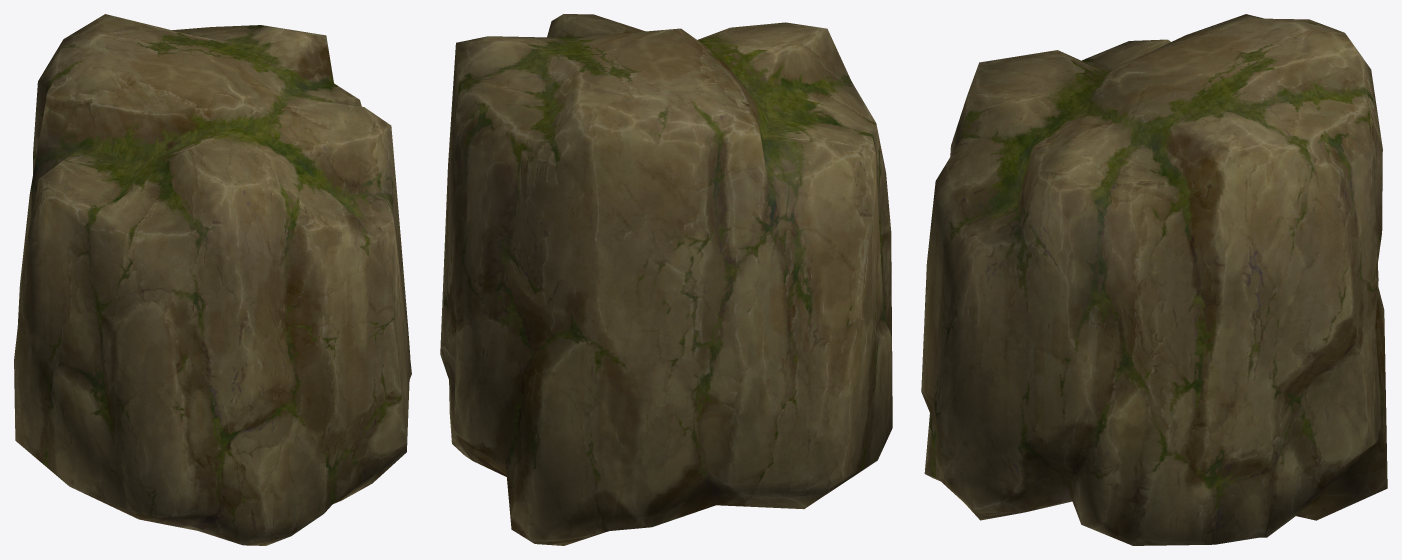
File: Cliff2.fbx
The picture shows the model from 3 angles, left to right: view 1: azimuth 30°, elevation 25°; view 2: azimuth 150°, elevation 25°; view 3: azimuth 270°, elevation 25°; orthographic projection. The views are drawn at different scales.
Visible parts, largest first — view 1: SM_d_109_Cliff_02a; view 2: SM_d_109_Cliff_02a; view 3: SM_d_109_Cliff_02a.
Part boxes in pixels (x1,y1,x2,y2): SM_d_109_Cliff_02a: [14, 14, 411, 545]; SM_d_109_Cliff_02a: [440, 14, 892, 545]; SM_d_109_Cliff_02a: [921, 14, 1387, 545].
Bounding box in the file's own units: 1079 × 1151 × 1070.
